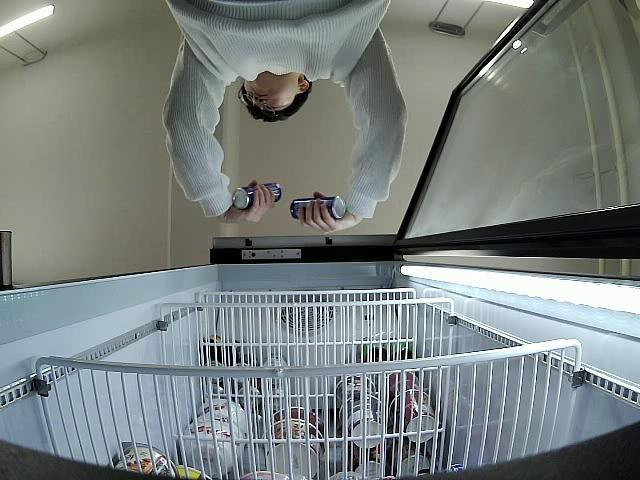00_hand: (297, 189, 359, 235), (230, 178, 275, 224)
16_hot6: (291, 196, 347, 221), (234, 183, 281, 209)
